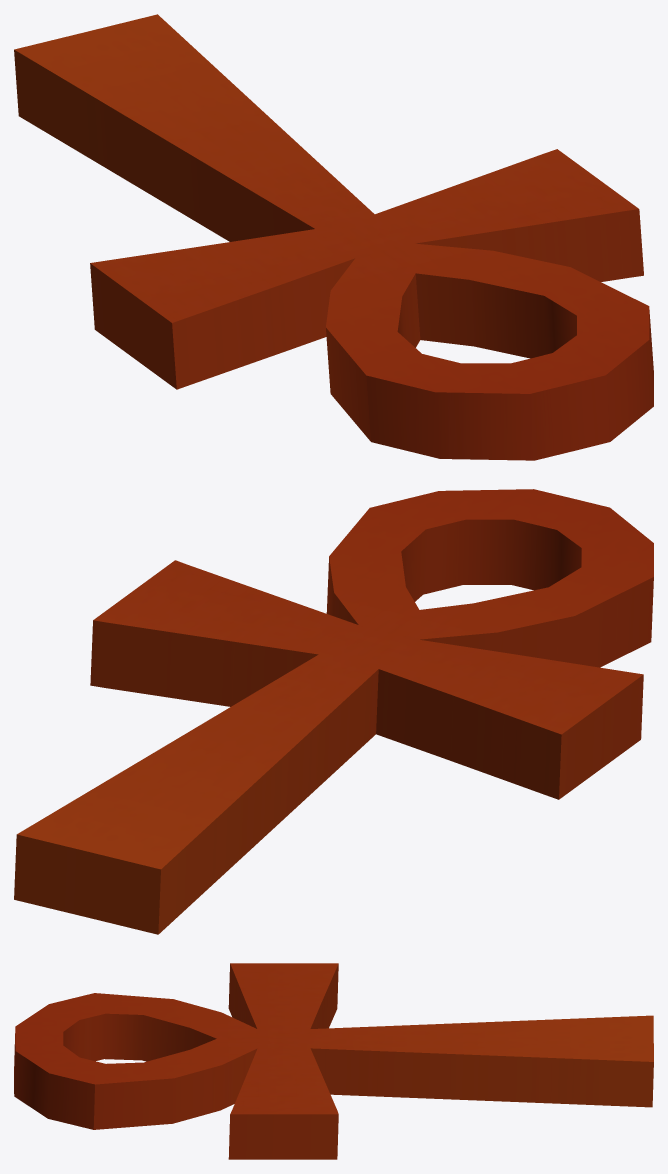
The picture shows the model from 3 angles, top to bottom: view 1: azimuth 30°, elevation 25°; view 2: azimuth 150°, elevation 25°; view 3: azimuth 270°, elevation 25°; orthographic projection. The views are drawn at different scales.
Visible parts, largest first — view 1: diorama.018; view 2: diorama.018; view 3: diorama.018.
Part boxes in pixels (box(x1,y1,x2,y2)): diorama.018: box(14, 14, 653, 460); diorama.018: box(14, 489, 653, 934); diorama.018: box(14, 963, 653, 1159).
Size of the model in its own units: 13.94 by 1.89 by 24.76.
